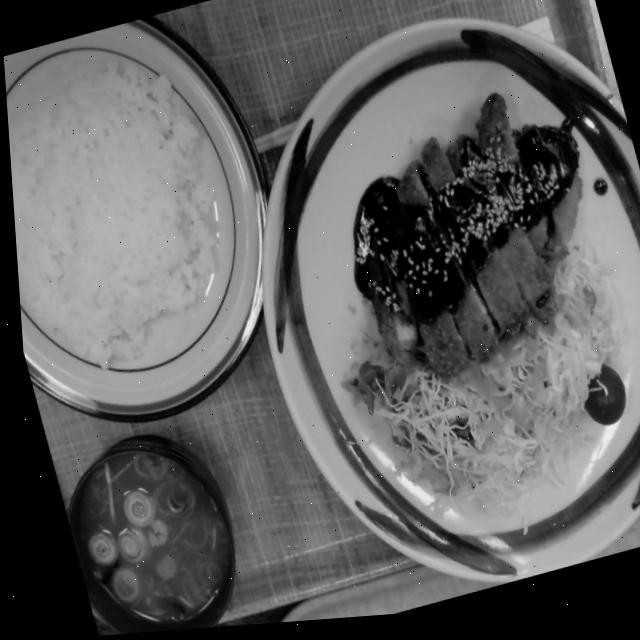汤锅炖物: (43, 411, 267, 639)
米饭主食: (1, 0, 315, 461)
蔬菜料理: (343, 264, 640, 556)
